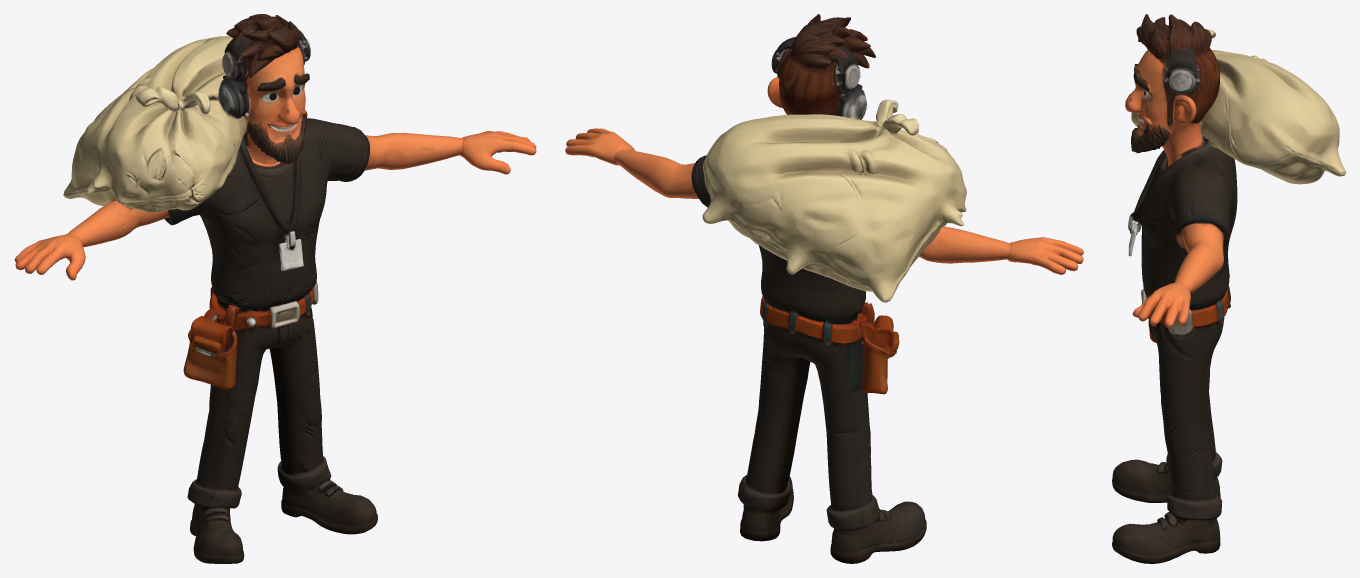
File: spin_cycle.glb
The picture shows the model from 3 angles, left to right: view 1: azimuth 30°, elevation 25°; view 2: azimuth 150°, elevation 25°; view 3: azimuth 270°, elevation 25°; orthographic projection. The views are drawn at different scales.
Parts seen in each view (by area): view 1: tripo_node_2615b2a1-a3e7-40fb-80c8-6a03bb173b11; view 2: tripo_node_2615b2a1-a3e7-40fb-80c8-6a03bb173b11; view 3: tripo_node_2615b2a1-a3e7-40fb-80c8-6a03bb173b11.
Boxes of the visible parts, bbox=[...] form: tripo_node_2615b2a1-a3e7-40fb-80c8-6a03bb173b11: bbox=[14, 14, 536, 563]; tripo_node_2615b2a1-a3e7-40fb-80c8-6a03bb173b11: bbox=[565, 14, 1083, 563]; tripo_node_2615b2a1-a3e7-40fb-80c8-6a03bb173b11: bbox=[1112, 14, 1345, 563].
Bounding box in the file's own units: 0.9796 × 0.9408 × 0.3951.
1 material, 1 textured.
